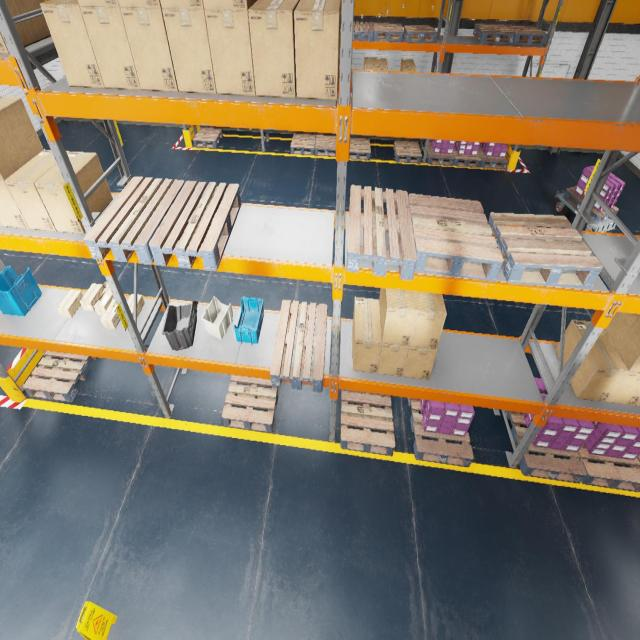box: (34, 151, 113, 234), (555, 319, 628, 402), (40, 0, 105, 88), (5, 149, 69, 231), (80, 6, 141, 90), (248, 0, 300, 98), (120, 7, 178, 91), (294, 0, 341, 100), (162, 8, 216, 94), (204, 10, 256, 96), (0, 96, 43, 180), (603, 329, 640, 405), (0, 0, 51, 53), (352, 297, 382, 373), (379, 288, 417, 345), (604, 312, 640, 372), (409, 292, 446, 348), (378, 314, 409, 376), (0, 180, 29, 228), (404, 346, 437, 379), (57, 290, 83, 318), (93, 281, 114, 315), (80, 283, 104, 311), (100, 299, 120, 329), (203, 0, 257, 10), (127, 293, 145, 318), (160, 0, 204, 9), (118, 0, 161, 8), (78, 0, 119, 7), (400, 59, 416, 71), (375, 58, 388, 70), (364, 57, 376, 70), (635, 399, 640, 406), (0, 221, 3, 226)
pallets: (84, 177, 184, 264), (488, 213, 602, 288), (408, 193, 504, 282), (149, 181, 241, 271), (346, 185, 417, 280), (505, 410, 587, 483), (270, 300, 327, 392), (408, 398, 473, 467), (22, 351, 98, 402), (340, 389, 395, 456), (222, 375, 278, 433), (578, 444, 640, 492), (563, 186, 619, 224), (504, 25, 548, 45), (473, 24, 515, 44), (424, 142, 455, 166), (478, 146, 508, 169), (393, 140, 422, 163), (192, 128, 223, 148), (373, 23, 404, 42), (453, 146, 481, 167), (290, 133, 316, 155), (403, 26, 438, 42), (349, 138, 371, 160), (315, 135, 336, 157), (352, 21, 373, 42), (336, 93, 338, 106), (637, 454, 640, 462)
